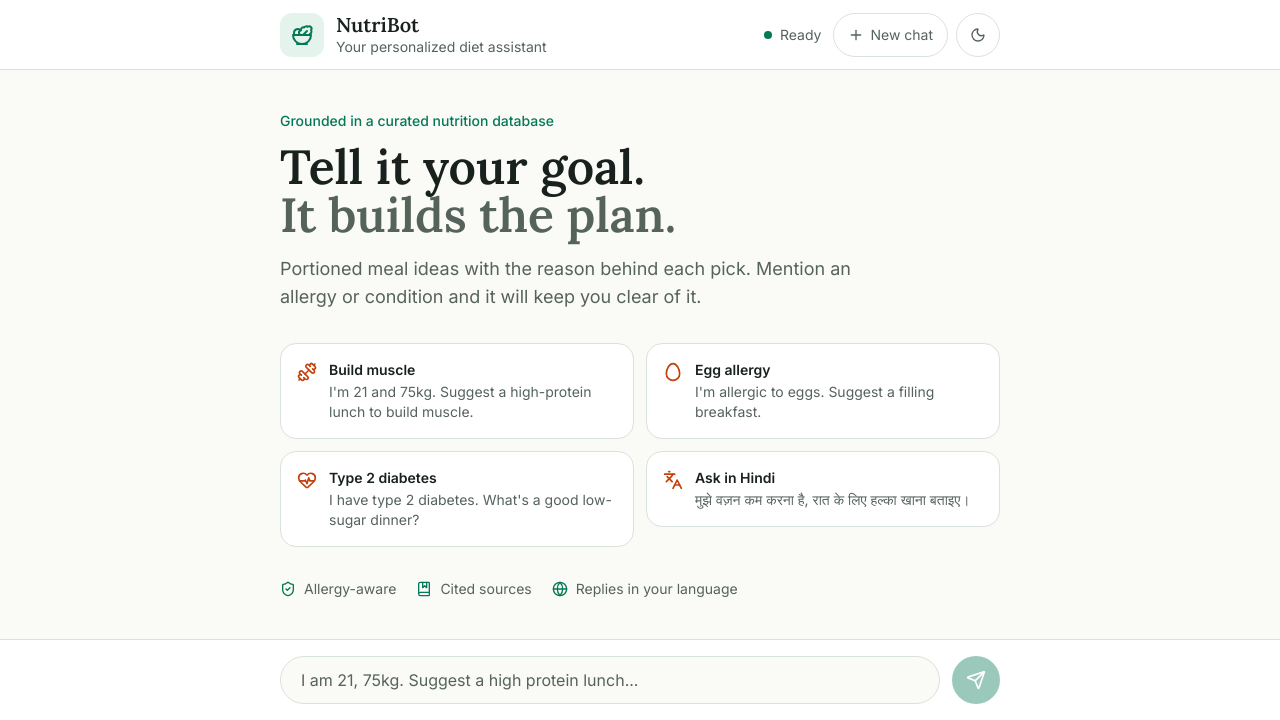
Scenario: a network failure shows an error alert instead of crashing
Type "hello" into the field named "ask nutribot". click: (610, 680)
box: [280,656,940,704]
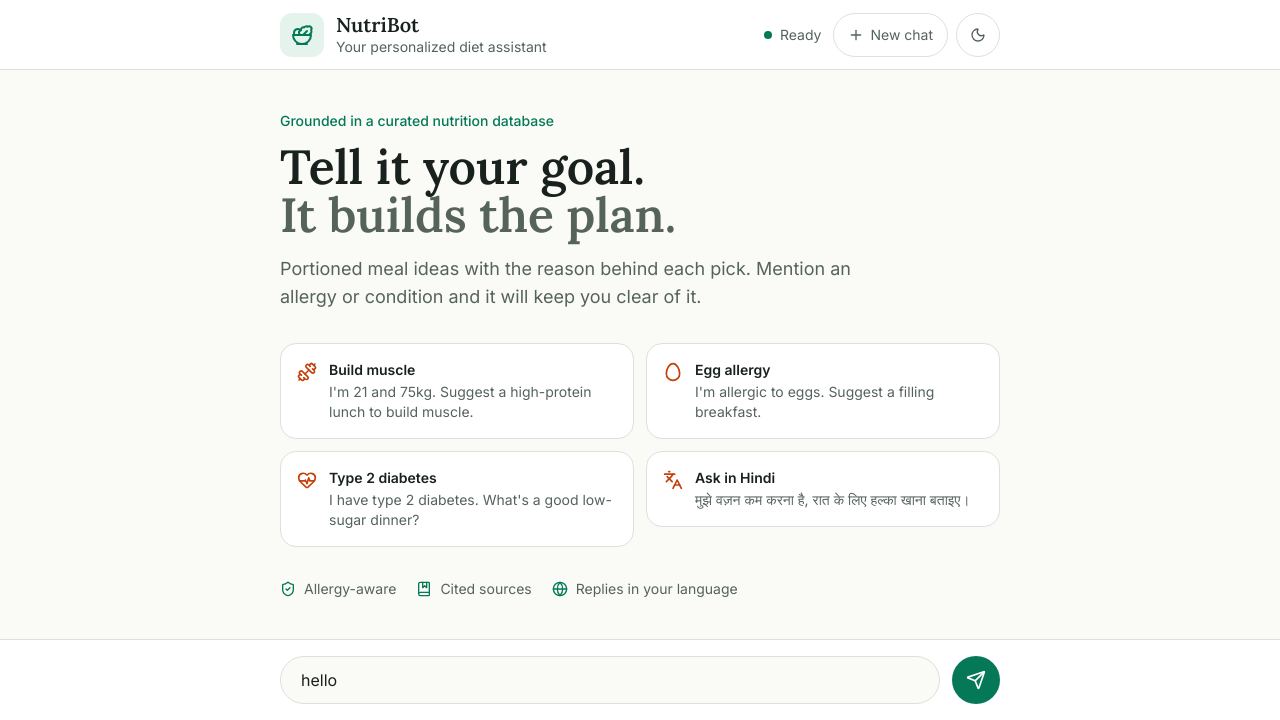
Click the button named "Send message". click: (976, 680)
box: [952,656,1000,704]
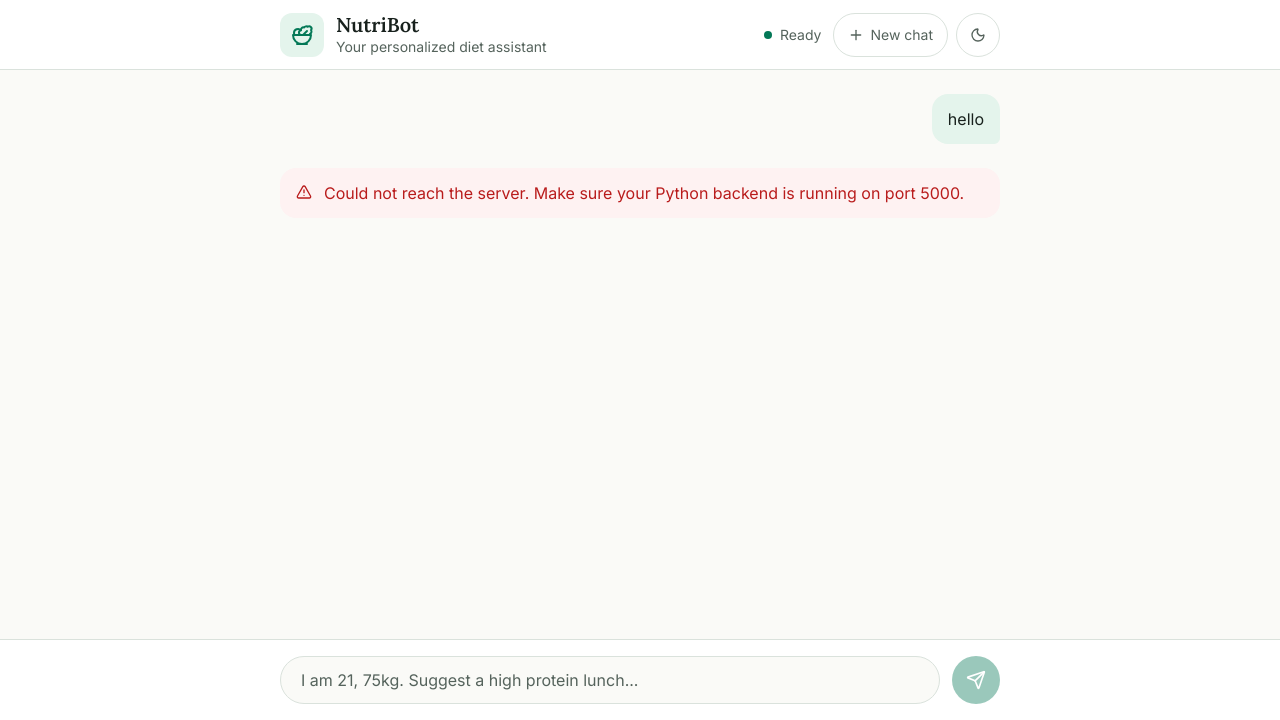
Result: the 2nd message shows "Could not reach the server" at [324,183,964,203]
